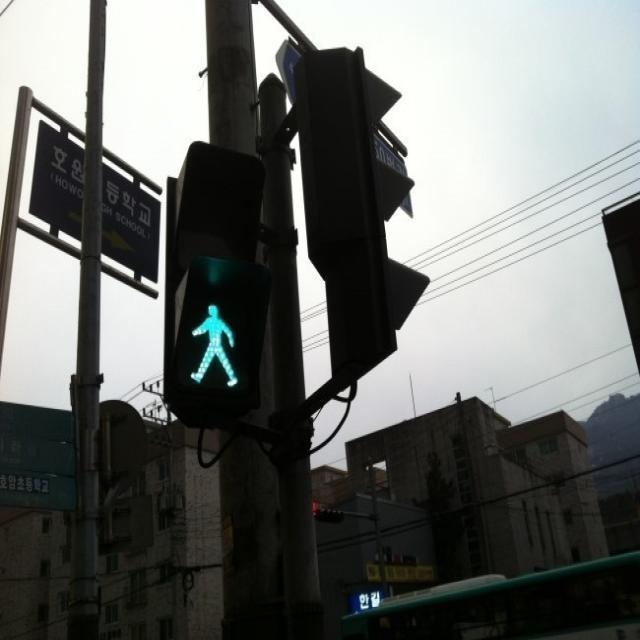greenlight: (166, 162, 279, 409)
